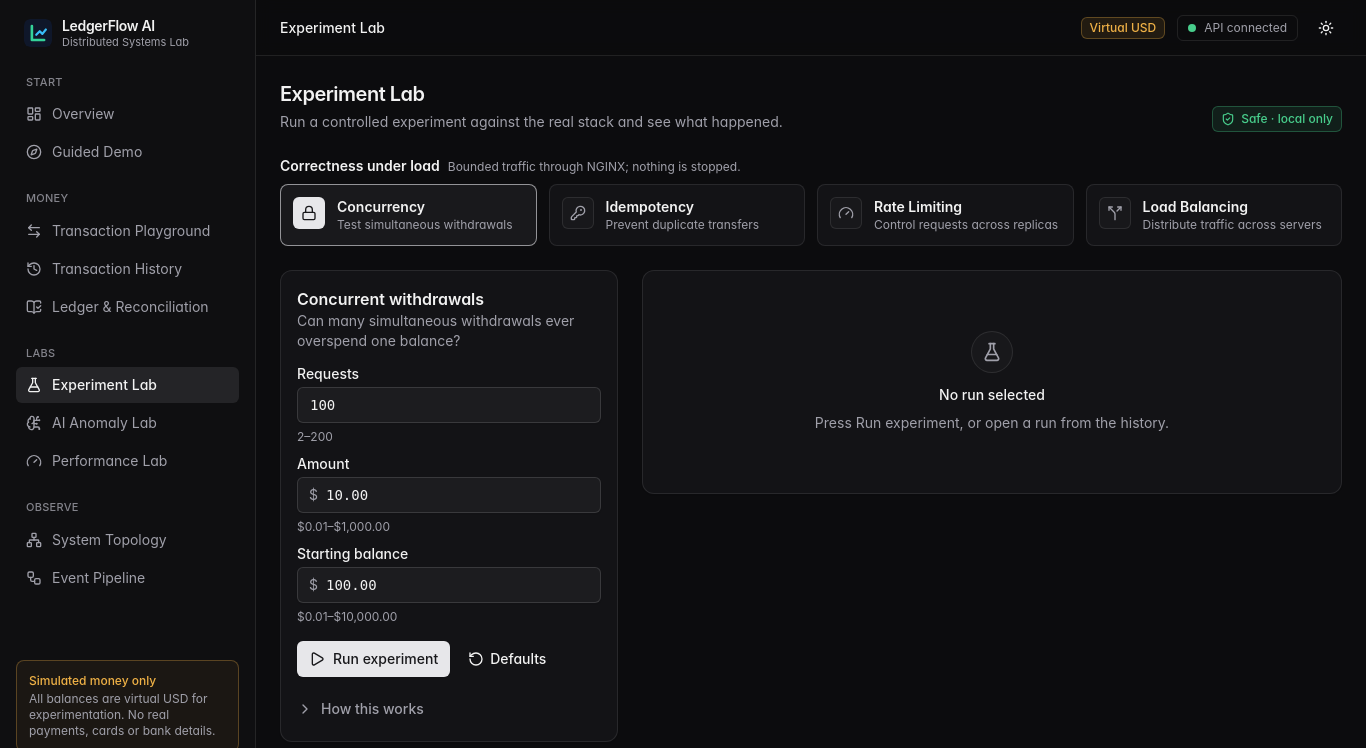
Test: experiment selection and configuration › switching experiments shows that experiment's own parameters
Click the button "Rate Limiting Control requests across replicas": click(945, 215) 817,184 -> 1074,246
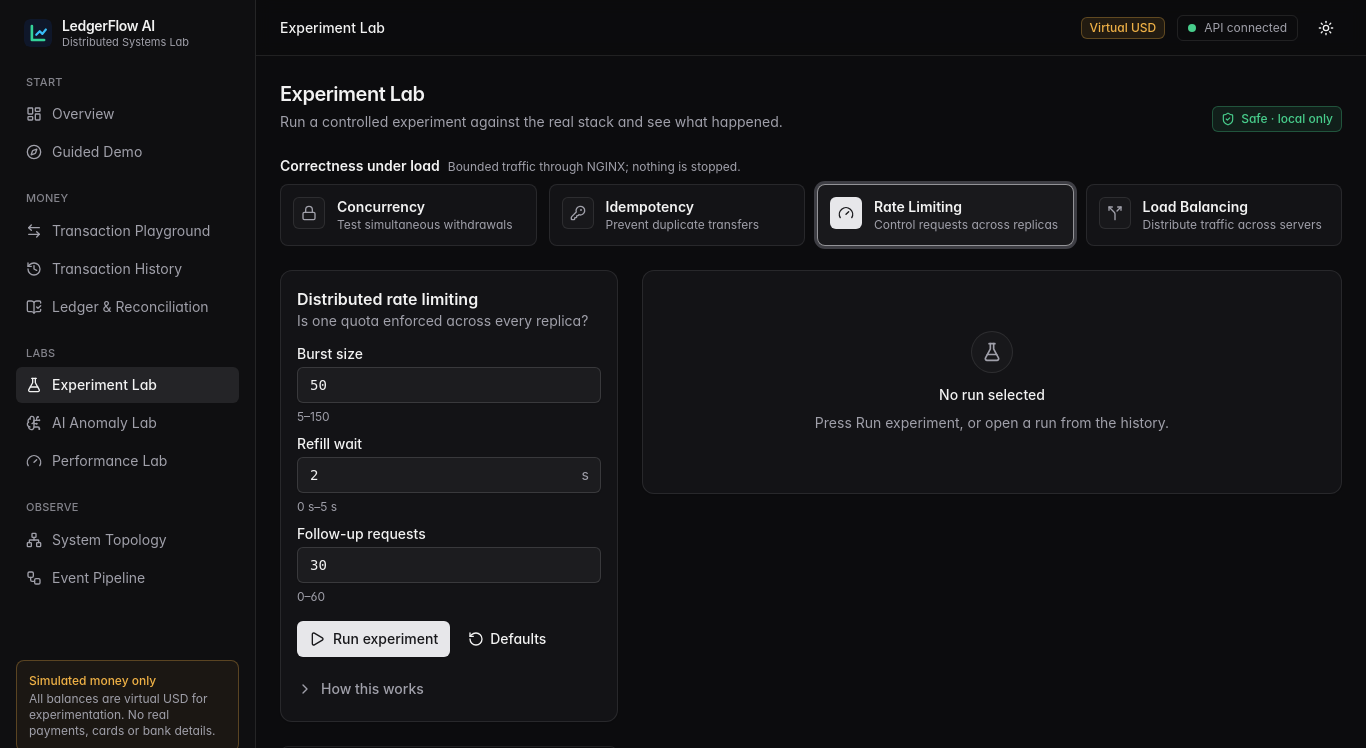
Expected: the field labelled "Burst size" holds "50", 297,367 -> 601,403
Expected: the field labelled "Refill wait" holds "2", 297,457 -> 601,493
